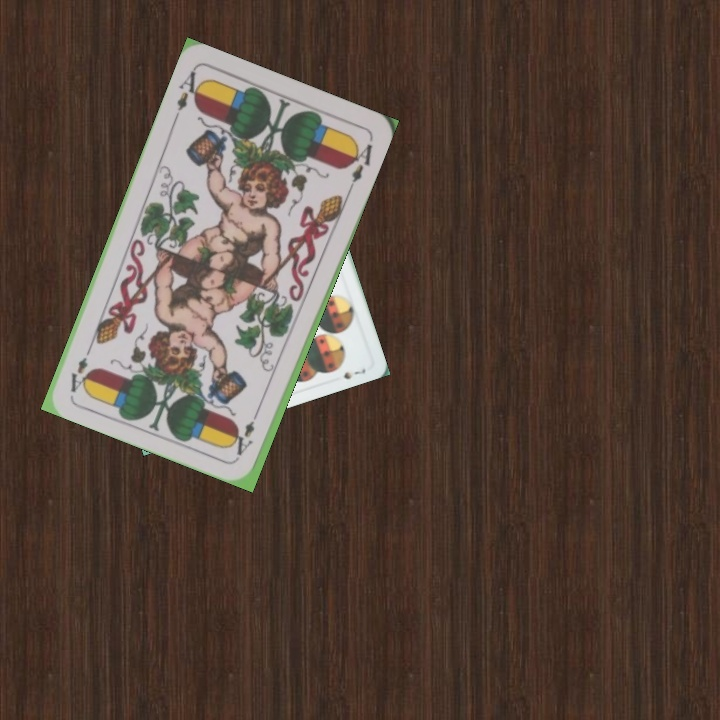EA: (170, 67, 206, 123), (232, 403, 263, 458)
